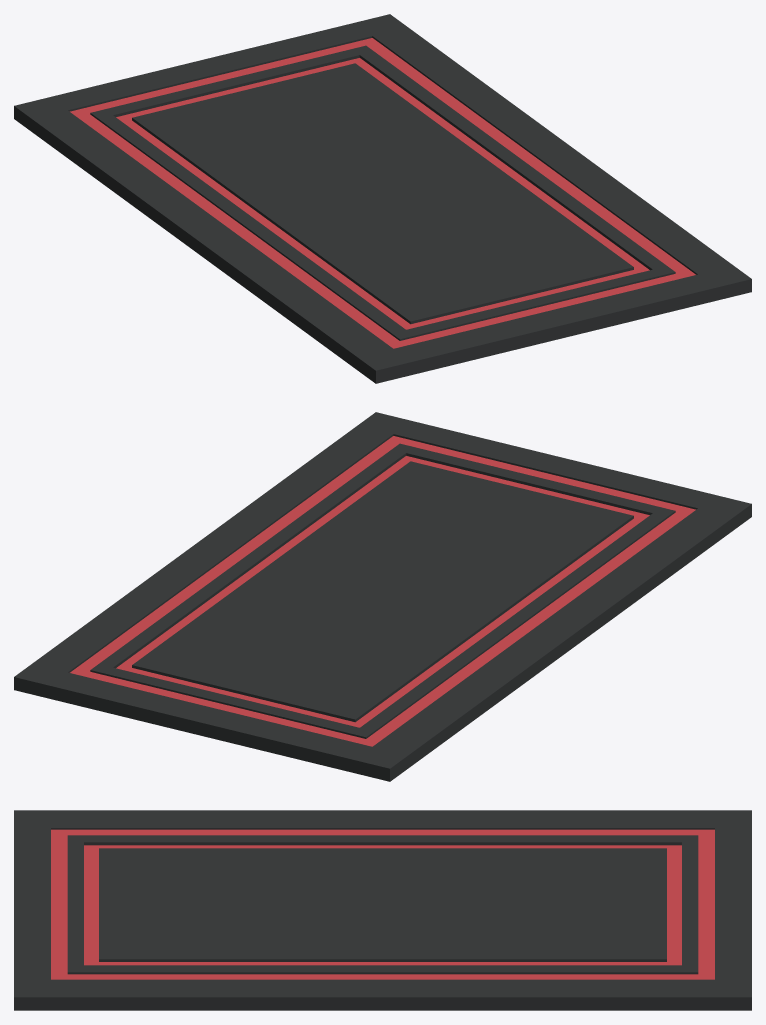
The model's file is Bar Mat.fbx.
3 views of the same model, one above another, from view 1: azimuth 30°, elevation 25°; view 2: azimuth 150°, elevation 25°; view 3: azimuth 270°, elevation 25° (orthographic).
Visible parts, largest first — view 1: Bar Mat; view 2: Bar Mat; view 3: Bar Mat.
Part boxes in pixels (x1,y1,x2,y2): Bar Mat: (14, 14, 751, 383); Bar Mat: (14, 412, 751, 781); Bar Mat: (14, 810, 751, 1010).
Bounding box in the file's own units: 300 × 10 × 500.
